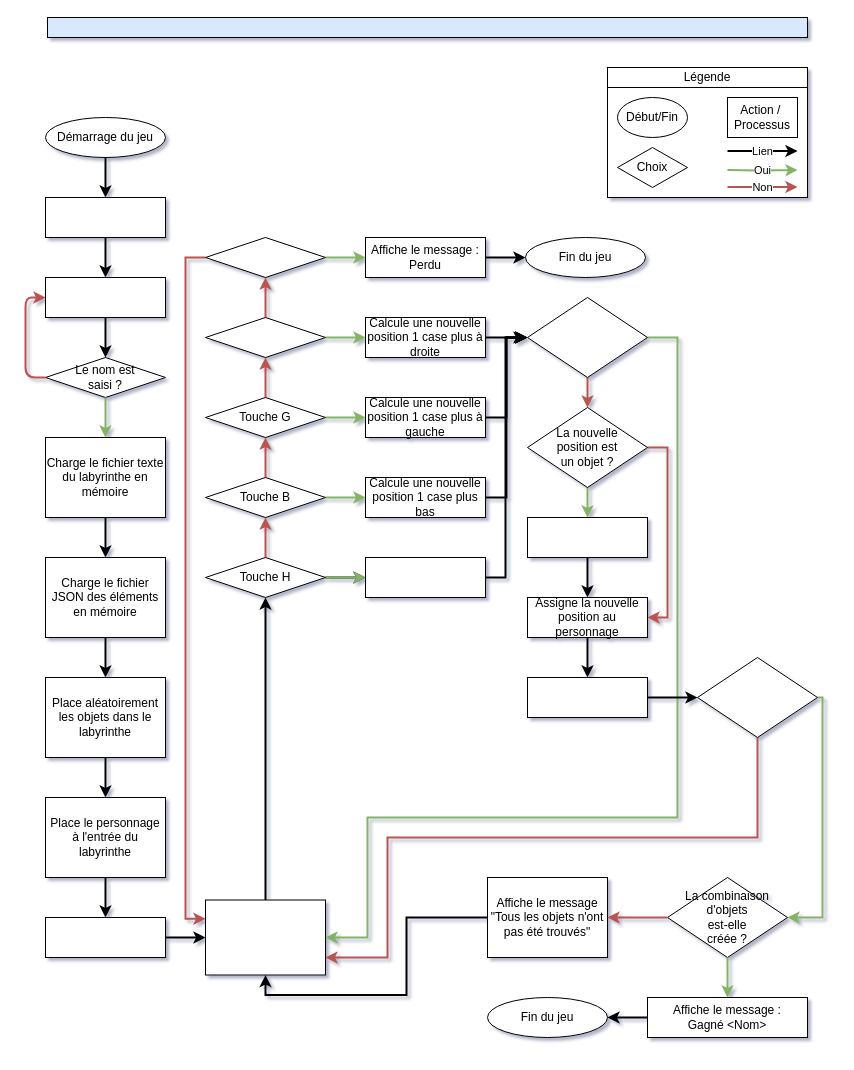
Some shapes in this 854 by 1070 pixel diagram are drawn without their labels. The centre of each missing label's shape, as x and y in pixels:
Attend du joueur un appuie sur une touche: the point at 265,937
Calcule une nouvelle position 1 case plus haut: the point at 425,577
Dit bonjour au joueur: the point at 105,217
Déplace le personnage sur l'écran: the point at 587,697
La nouvelle position est la sortie ?: the point at 757,697
La nouvelle position est un mur ?: the point at 587,337
Labyrinthe v1.1 (diagramme de flux): the point at 427,27
Lui demande son nom: the point at 105,297
Rammase l'objet et le place dans l'inventaire: the point at 587,537
Touche D: the point at 265,337
Touche Q: the point at 265,257
Trace le labyrinthe à l'écran: the point at 105,937
